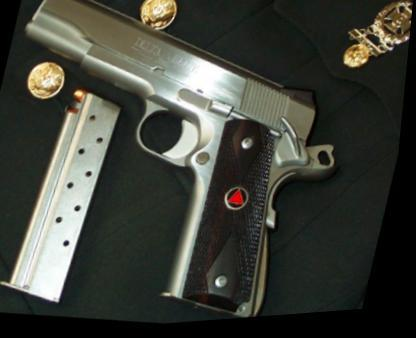pistol: (0, 0, 378, 335)
